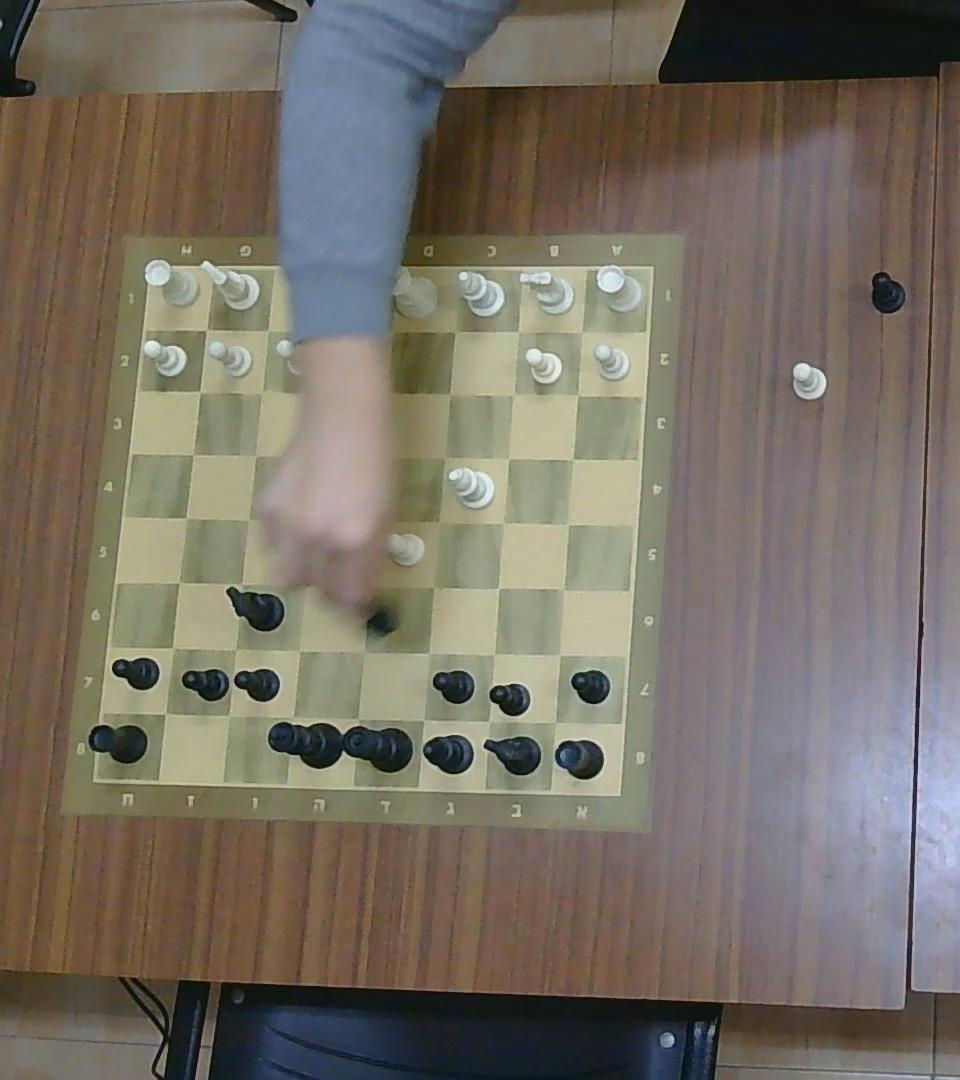xcorner: (378, 316, 406, 345), (344, 704, 371, 733), (568, 317, 596, 344), (474, 707, 501, 734), (278, 705, 305, 732), (414, 639, 441, 666), (152, 700, 179, 727), (215, 701, 241, 729), (160, 633, 185, 662), (295, 508, 320, 537), (442, 317, 468, 344), (366, 443, 391, 471), (563, 380, 589, 406), (286, 636, 311, 663), (411, 705, 436, 732), (542, 709, 569, 734), (373, 381, 398, 408), (504, 318, 530, 343), (425, 508, 450, 534), (293, 572, 318, 598), (222, 634, 246, 661), (193, 316, 218, 341), (556, 510, 581, 535), (551, 576, 576, 601), (235, 506, 259, 532), (486, 574, 510, 600), (357, 572, 381, 598), (311, 380, 335, 406), (361, 508, 385, 534), (180, 441, 204, 466), (491, 510, 515, 535), (352, 640, 376, 665), (480, 642, 504, 667), (420, 574, 444, 599), (174, 503, 197, 529), (318, 319, 341, 345), (560, 446, 583, 471), (167, 569, 190, 594), (438, 380, 461, 405), (257, 316, 280, 341), (304, 444, 327, 469), (242, 442, 266, 465), (250, 379, 273, 403), (547, 642, 570, 666), (228, 572, 252, 595), (497, 445, 519, 469), (188, 379, 210, 403), (502, 381, 524, 405), (432, 446, 455, 468)
